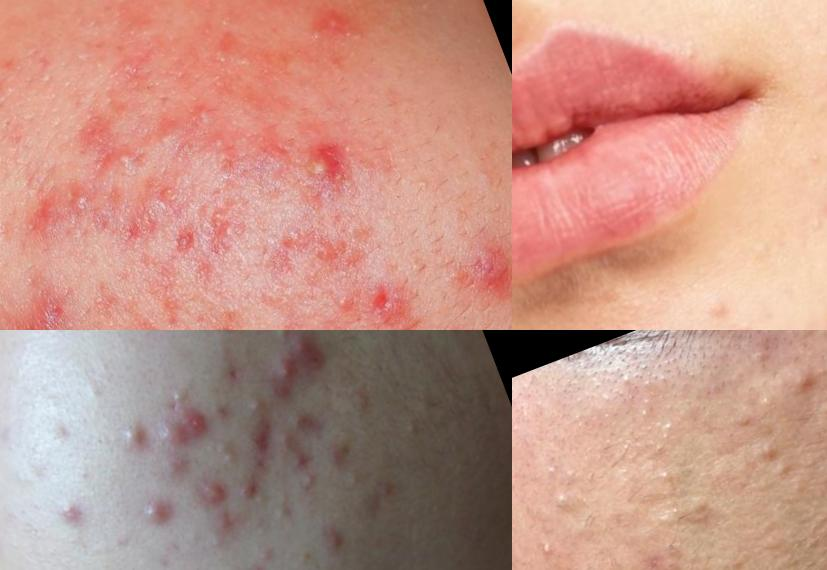acne_scars: (1, 158, 135, 279), (241, 196, 376, 308), (137, 80, 243, 177), (189, 187, 260, 264), (1, 296, 102, 331), (154, 214, 213, 272)
blackhead: (544, 479, 585, 523)
papular: (435, 227, 513, 316), (145, 398, 226, 467), (123, 479, 186, 541), (261, 341, 317, 402), (186, 463, 245, 517), (309, 517, 362, 568), (48, 490, 101, 539), (282, 331, 328, 374), (231, 472, 277, 515), (111, 419, 149, 466), (207, 497, 249, 539), (288, 402, 325, 439), (282, 446, 318, 482)
purulent: (294, 131, 359, 200), (94, 130, 157, 190), (525, 525, 569, 570)
whitehead: (317, 271, 371, 328), (230, 392, 282, 446), (24, 55, 75, 108), (293, 15, 338, 61), (787, 133, 827, 183), (206, 434, 250, 479), (226, 45, 270, 86), (341, 382, 382, 425), (292, 467, 327, 511), (399, 405, 434, 449), (649, 410, 687, 444), (45, 414, 80, 449), (756, 382, 789, 417), (269, 495, 302, 528), (751, 433, 784, 465), (248, 541, 284, 570), (334, 469, 364, 502), (650, 459, 680, 492), (167, 382, 196, 416), (203, 527, 233, 559), (661, 533, 691, 561), (20, 267, 44, 299), (181, 525, 209, 552), (81, 382, 108, 408), (265, 331, 300, 350), (74, 461, 99, 486), (657, 552, 690, 570), (814, 391, 827, 431)
